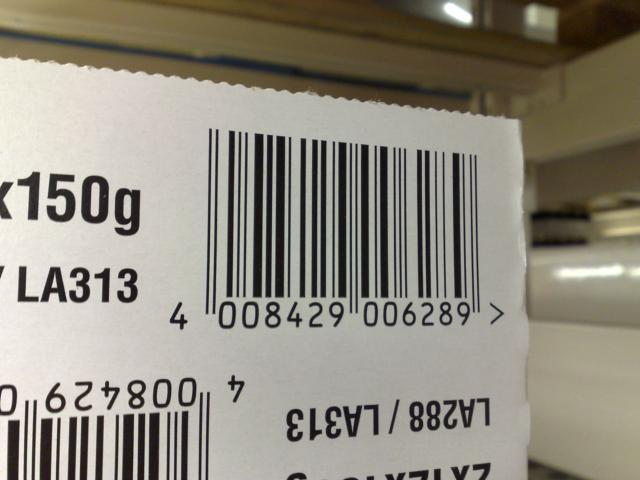Barkod: (200, 134, 478, 301)
